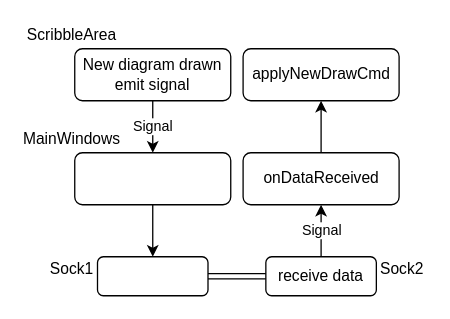
Some shapes in this 450 by 319 pixel diagram are drawn without their labels. The centre of each missing label's shape, as x and y in pixels:
onNewDiagramDrawn: point (152, 178)
send data: point (152, 275)
